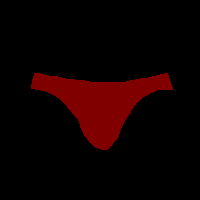mutande: (30, 72, 173, 150)
